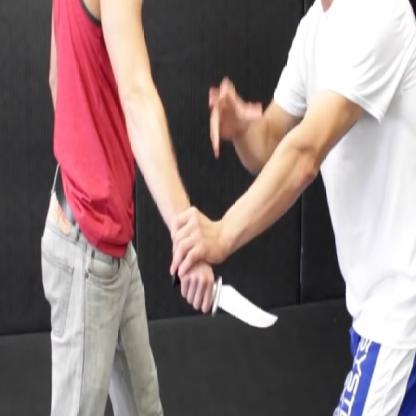knife: (167, 265, 280, 342)
